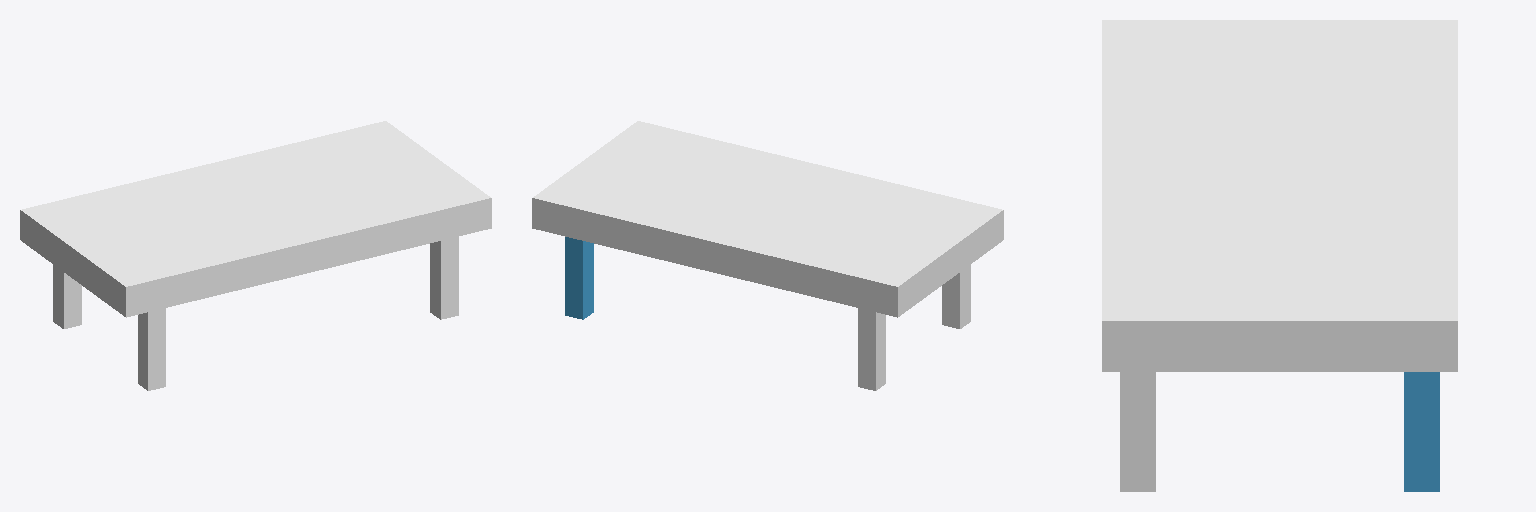
The robot description file, URDF, robot "urdf_table":
<?xml version="0.0" ?>
<robot name="urdf_table">

 <link name="world"/>
  <joint name="fixed" type="fixed">
    <parent link="world"/>
    <child link="baseLink"/>
    <origin xyz="0 0 0"/>
  </joint>

  <link name="baseLink">
    <inertial>
      <origin rpy="0 0 0" xyz="0 0 0.6"/>
       <mass value="0"/>
       <inertia ixx="0.1" ixy="0" ixz="0" iyy="0.1" iyz="0" izz="0.1"/>
    </inertial>
    <visual>
      <origin rpy="0 0 0" xyz="0 0 0.26"/>
      <geometry>
	    <!-- <mesh filename="table.obj" scale="0.6 0.6 0.08"/> -->
        <box size="1.0 0.5 0.08"/>
      </geometry>
	   <material name="framemat0">
      <color
                    rgba="1 1 1 1" />
      </material>
    </visual>
    <visual>
      <origin rpy="0 0 0" xyz="-0.4 -0.2 0.11"/>
      <geometry>
        <box size="0.05 0.05 0.22"/>
      </geometry>
	  <material name="framemat0"/>	 
    </visual>
    <visual>
      <origin rpy="0 0 0" xyz="-0.4 0.2 0.11"/>
      <geometry>
        <box size="0.05 0.05 0.22"/>
      </geometry>
	  <material name="framemat0"/>
	  </visual>
    <visual>
      <origin rpy="0 0 0" xyz="0.4 -0.2 0.11"/>
      <geometry>
        <box size="0.05 0.05 0.22"/>
      </geometry>
	  <material name="framemat0"/>
	  </visual>
    <visual>
      <origin rpy="0 0 0" xyz="0.4 0.2 0.11"/>
      <geometry>
        <box size="0.05 0.05 0.22"/>
      </geometry>
    </visual>
    <collision>
      <origin rpy="0 0 0" xyz="0 0 0.15"/>
      <geometry>
      <box size="1.0 0.5 0.3"/>
      </geometry>
    </collision>    
  </link>
</robot>

--- Facts derived from the render (not from the file) ---
The picture shows the robot from 3 angles, left to right: view 1: azimuth 30°, elevation 25°; view 2: azimuth 150°, elevation 25°; view 3: azimuth 270°, elevation 25°; orthographic projection.
Robot: urdf_table — 2 links, 1 joints (1 fixed); root link world; default pose: every joint at zero.
Links seen in each view (by area): view 1: baseLink; view 2: baseLink; view 3: baseLink.
Link boxes in pixels (<box>): baseLink: <box>20,121,491,390</box>; baseLink: <box>532,121,1003,390</box>; baseLink: <box>1102,20,1457,491</box>.
Size in the robot's own frame: 1 by 0.5 by 0.3 metres.
Geometry: primitives only (box / cylinder / sphere), no mesh files.